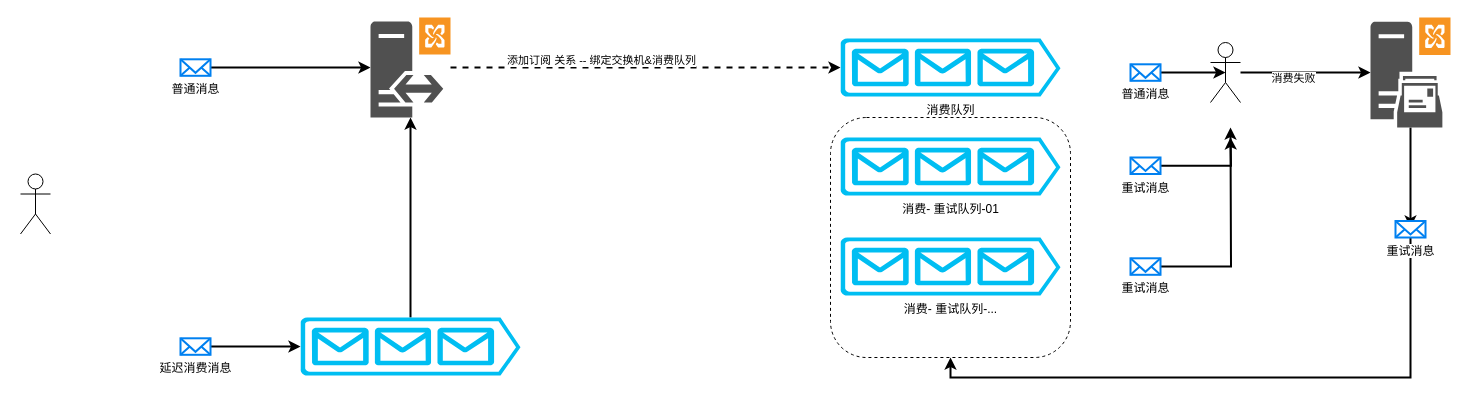
Some shapes in this 1471 by 413 pixel diagram are drawn without their labels. Each missing label, with the box of its shape:
消费-重试交换机: (1370, 17, 1450, 127)
消费者: (1210, 42, 1240, 102)
生产 - 交换机: (370, 17, 450, 117)
生产 - 延迟队列: (300, 317, 520, 375)
生产者: (20, 173, 50, 234)
